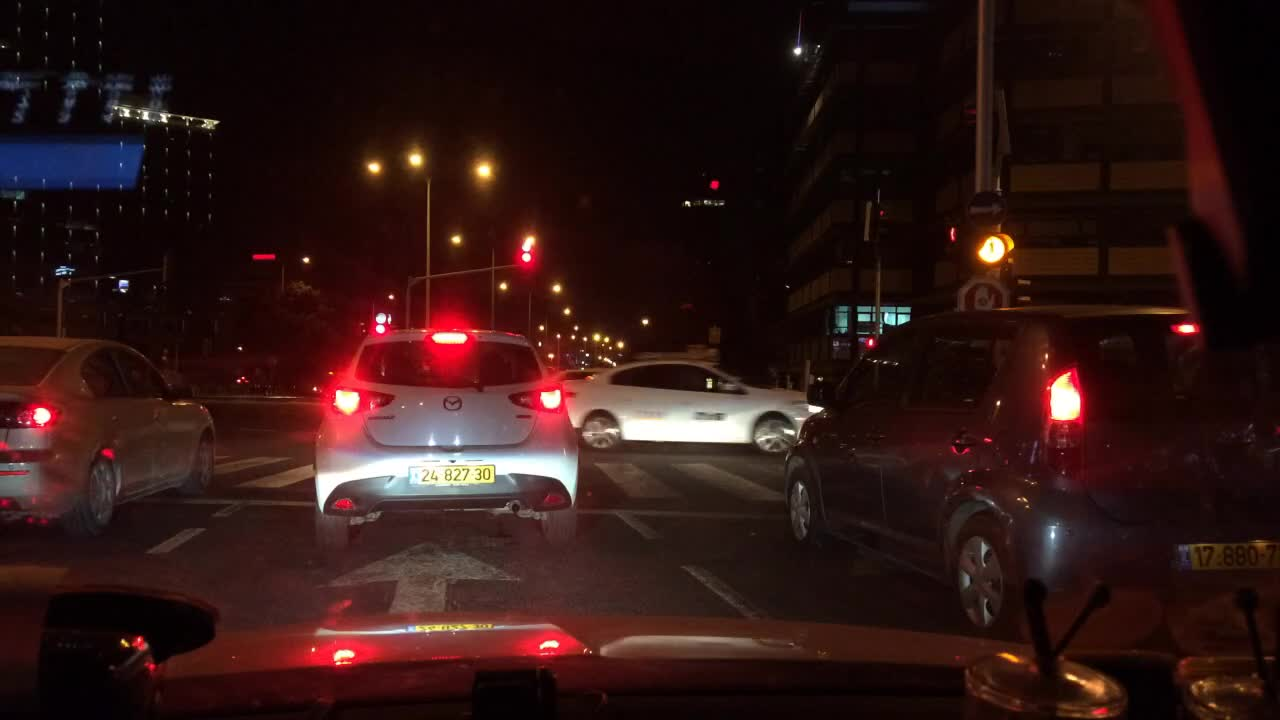car: (783, 305, 1280, 647), (311, 323, 585, 553), (0, 332, 219, 547), (555, 360, 823, 455), (552, 368, 614, 404)
traffic light: (962, 81, 1014, 157), (968, 231, 1007, 268), (863, 201, 888, 245), (159, 247, 176, 287), (944, 220, 962, 248), (519, 246, 534, 274), (371, 320, 386, 335), (866, 335, 878, 346)
traffic sign: (967, 191, 1013, 228), (958, 280, 1007, 309)
